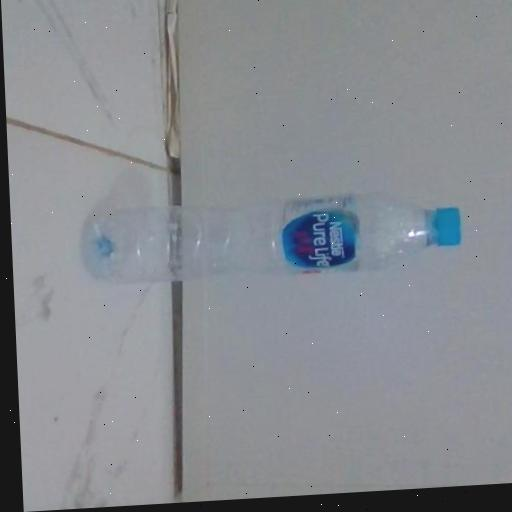ba: (70, 179, 468, 298)
